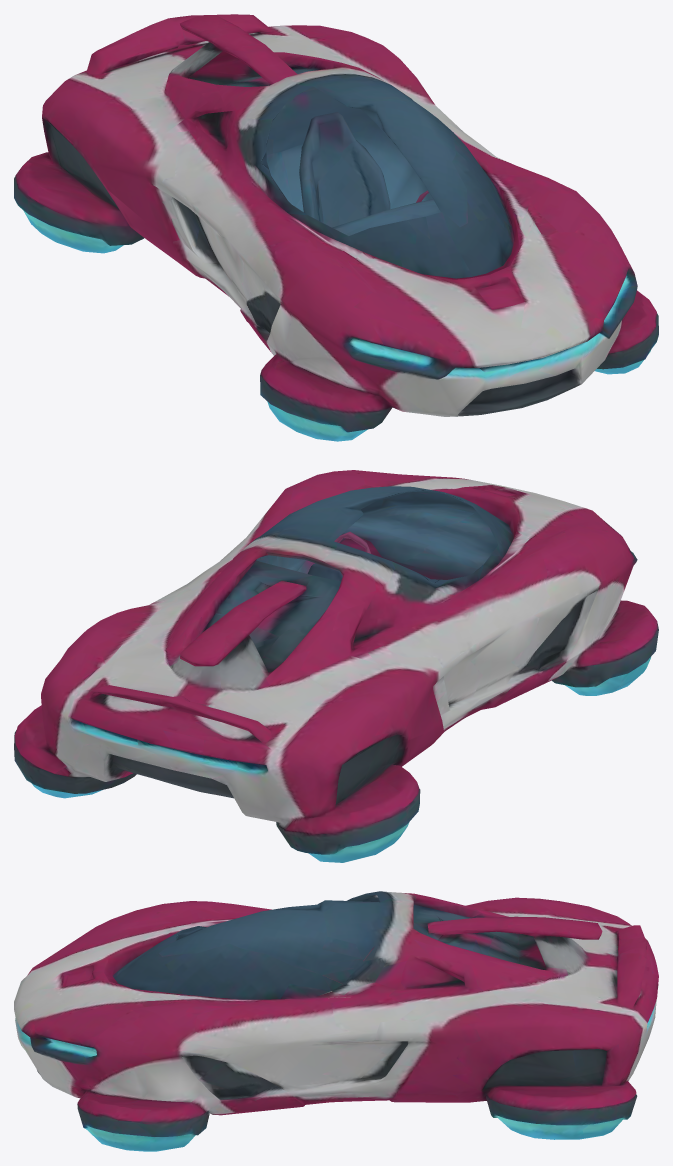
File: env-hover-car.glb
3 renders of one model, top to bottom at view 1: azimuth 30°, elevation 25°; view 2: azimuth 150°, elevation 25°; view 3: azimuth 270°, elevation 25°, orthographic. The views are drawn at different scales.
Parts seen in each view (by area): view 1: env-hover-car; view 2: env-hover-car; view 3: env-hover-car.
Part boxes in pixels (left/top/right/bottom): env-hover-car: left=14, top=14, right=658, bottom=441; env-hover-car: left=14, top=470, right=658, bottom=862; env-hover-car: left=14, top=891, right=658, bottom=1151.
Size of the model in its own units: 2.27 by 1.2 by 3.9.
1 material, 1 textured.
